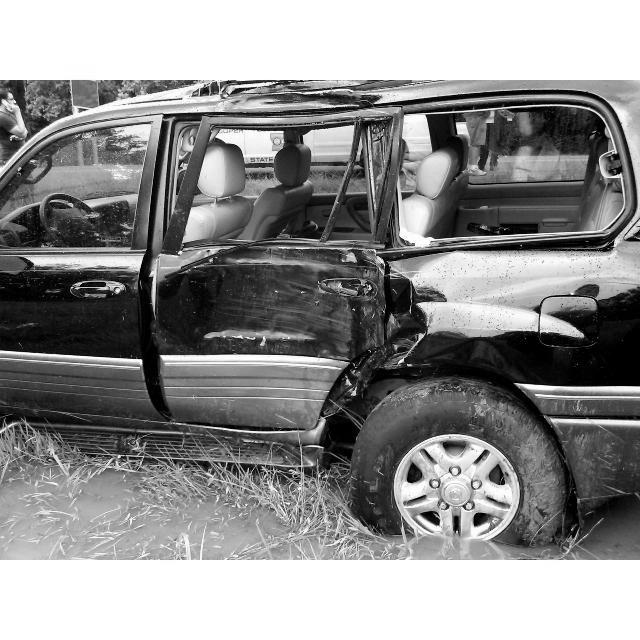doorouter-dent: (169, 226, 389, 443)
roof-dent: (110, 85, 580, 118)
